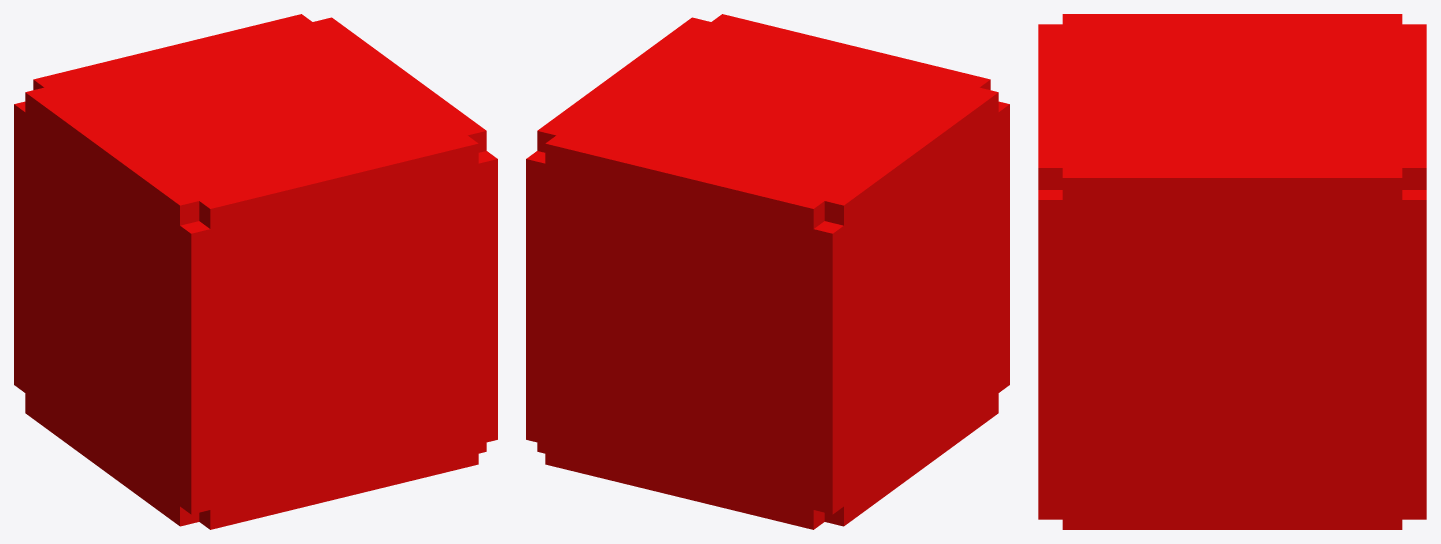
The model's file is basic.obj.
The picture shows the model from 3 angles, left to right: view 1: azimuth 30°, elevation 25°; view 2: azimuth 150°, elevation 25°; view 3: azimuth 270°, elevation 25°; orthographic projection. The views are drawn at different scales.
Size of the model in its own units: 1.6 by 1.6 by 1.6.
Materials: 1 (1 with a texture image).
